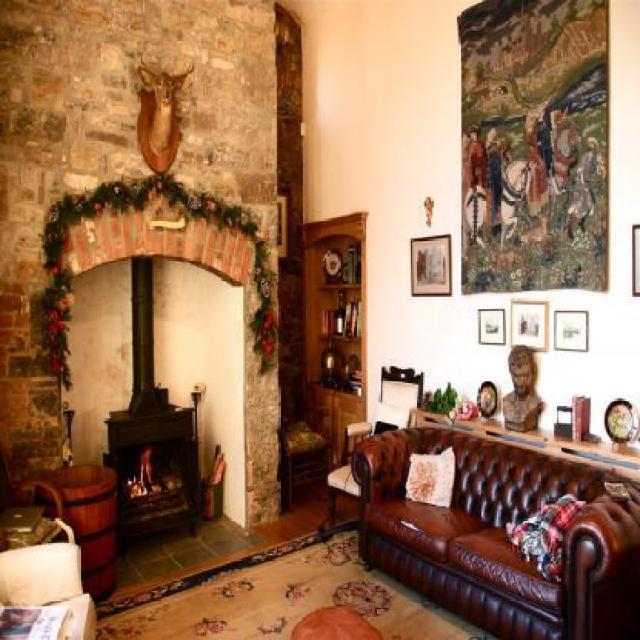Fire: (126, 456, 162, 496)
